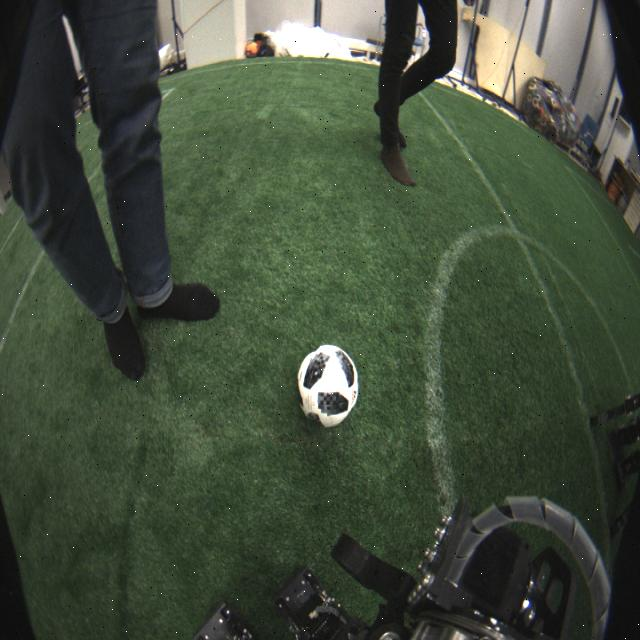ball: (296, 344, 359, 429)
